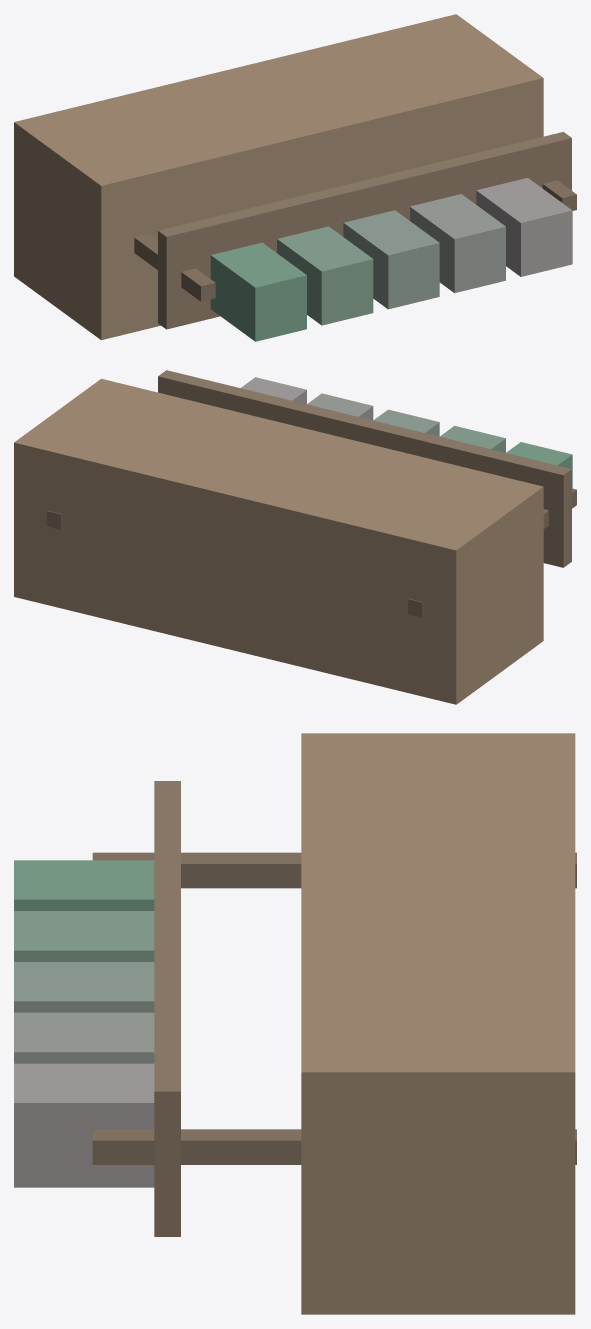
Rendered from product-display-high.glb.
3 renders of one model, top to bottom at view 1: azimuth 30°, elevation 25°; view 2: azimuth 150°, elevation 25°; view 3: azimuth 270°, elevation 25°, orthographic. The views are drawn at different scales.
Parts seen in each view (by area): view 1: counter, shelf, product-0, product-2, product-1, product-4, product-3, post--0.98, post-0.98; view 2: counter, shelf, product-0, product-3, product-2, product-4, product-1, post--0.98; view 3: counter, product-4, shelf, product-3, product-0, product-1, product-2, post-0.98, post--0.98.
Boxes of the visible parts, <box> form: counter: <box>14,14,543,340</box>; shelf: <box>158,132,571,329</box>; product-0: <box>210,242,306,341</box>; product-2: <box>343,210,439,309</box>; product-1: <box>277,226,373,325</box>; product-4: <box>476,178,572,276</box>; product-3: <box>410,194,505,293</box>; post--0.98: <box>134,234,215,301</box>; post-0.98: <box>542,180,576,210</box>; counter: <box>14,378,543,704</box>; shelf: <box>158,370,571,567</box>; product-0: <box>506,442,572,488</box>; product-3: <box>307,393,373,420</box>; product-2: <box>373,409,439,436</box>; product-4: <box>240,377,306,404</box>; product-1: <box>440,425,505,452</box>; post--0.98: <box>408,488,576,617</box>; counter: <box>301,733,575,1314</box>; product-4: <box>14,1063,154,1187</box>; shelf: <box>154,781,180,1236</box>; product-3: <box>14,1012,154,1063</box>; product-0: <box>14,860,154,910</box>; product-1: <box>14,911,154,961</box>; product-2: <box>14,962,154,1012</box>; post-0.98: <box>92,1129,576,1164</box>; post--0.98: <box>92,852,576,888</box>.
Bounding box in the file's own units: 2.4 × 0.8 × 1.68.
